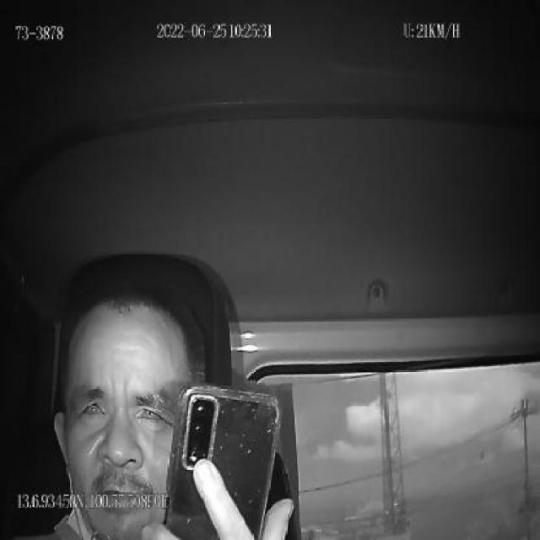phone: (164, 383, 282, 540)
